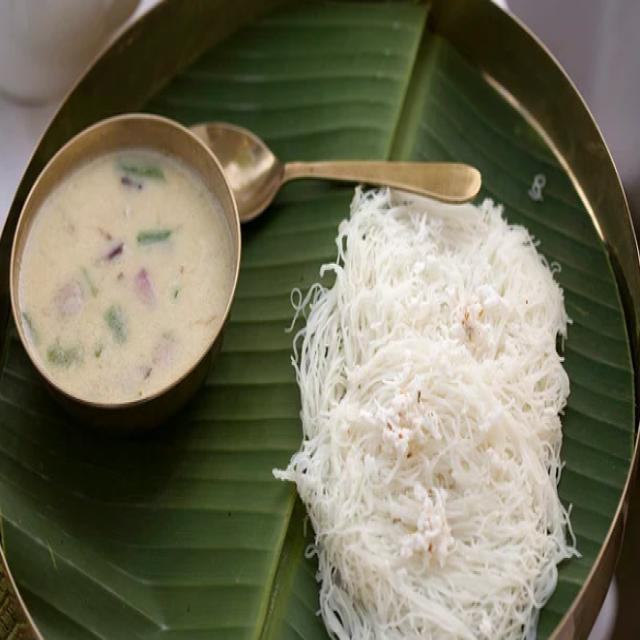IDIYAPPAM: (289, 197, 579, 638)
KURMA: (12, 119, 242, 405)
